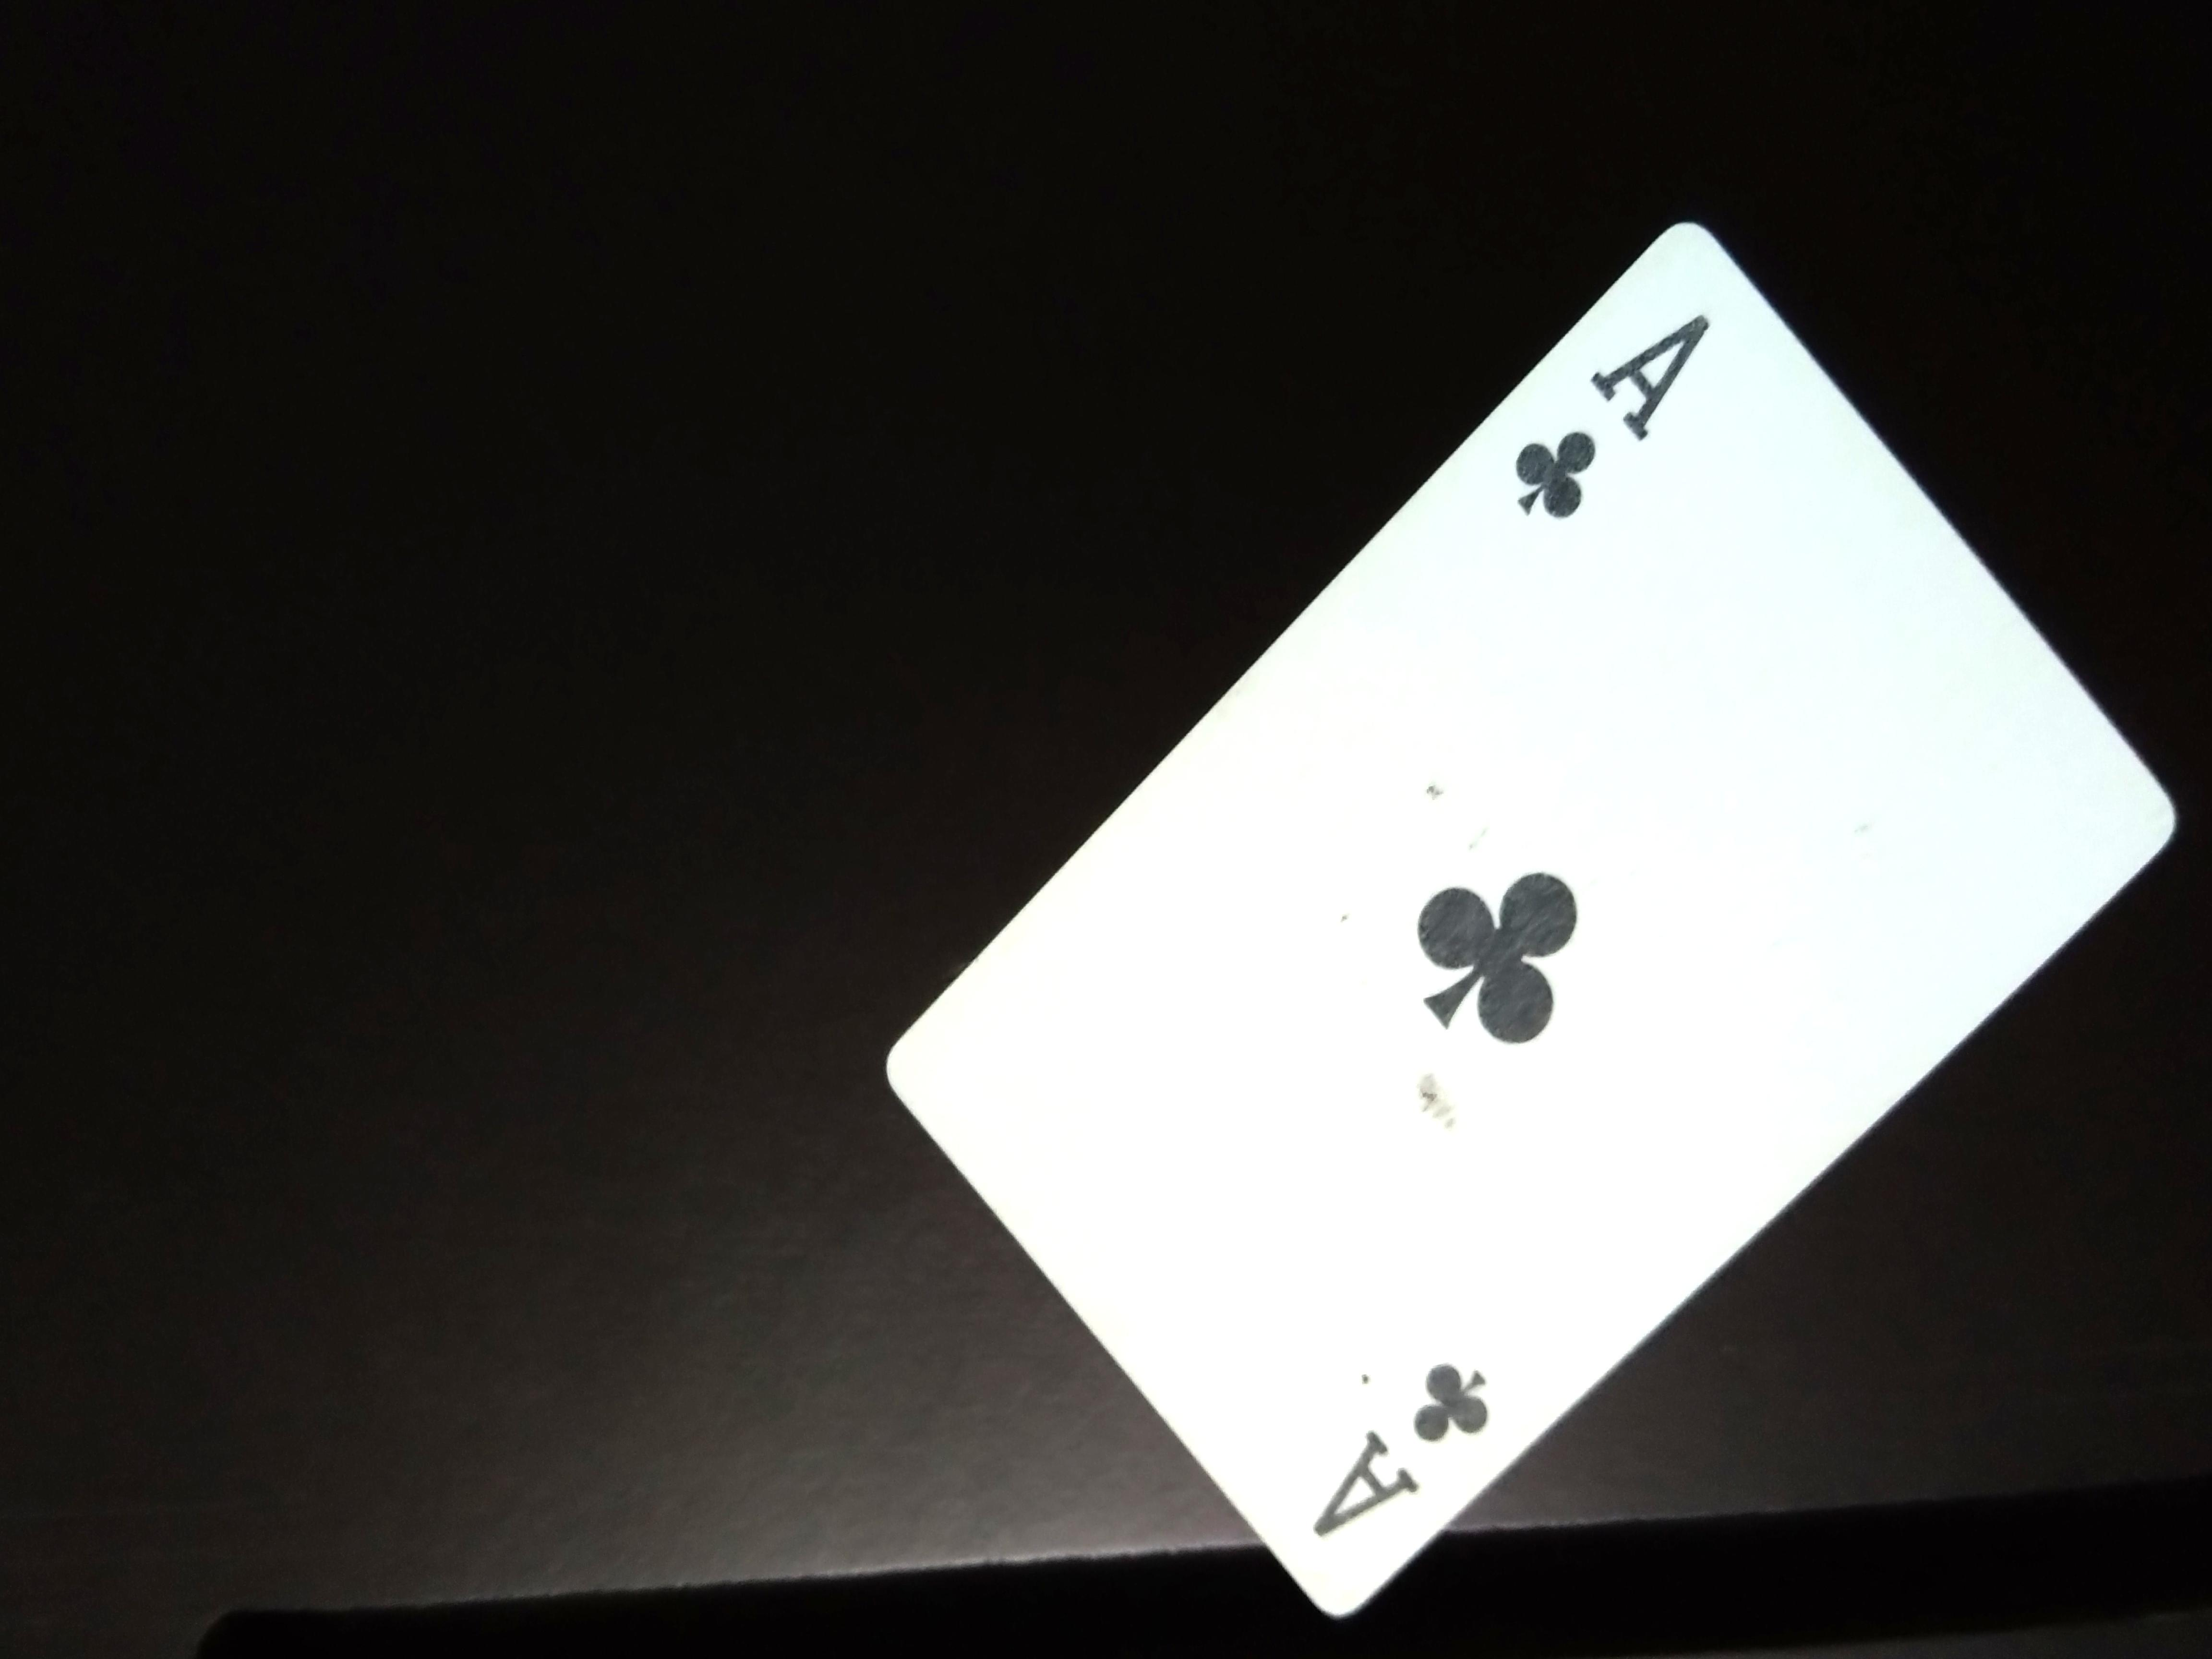AC: (1508, 305, 1714, 549)
